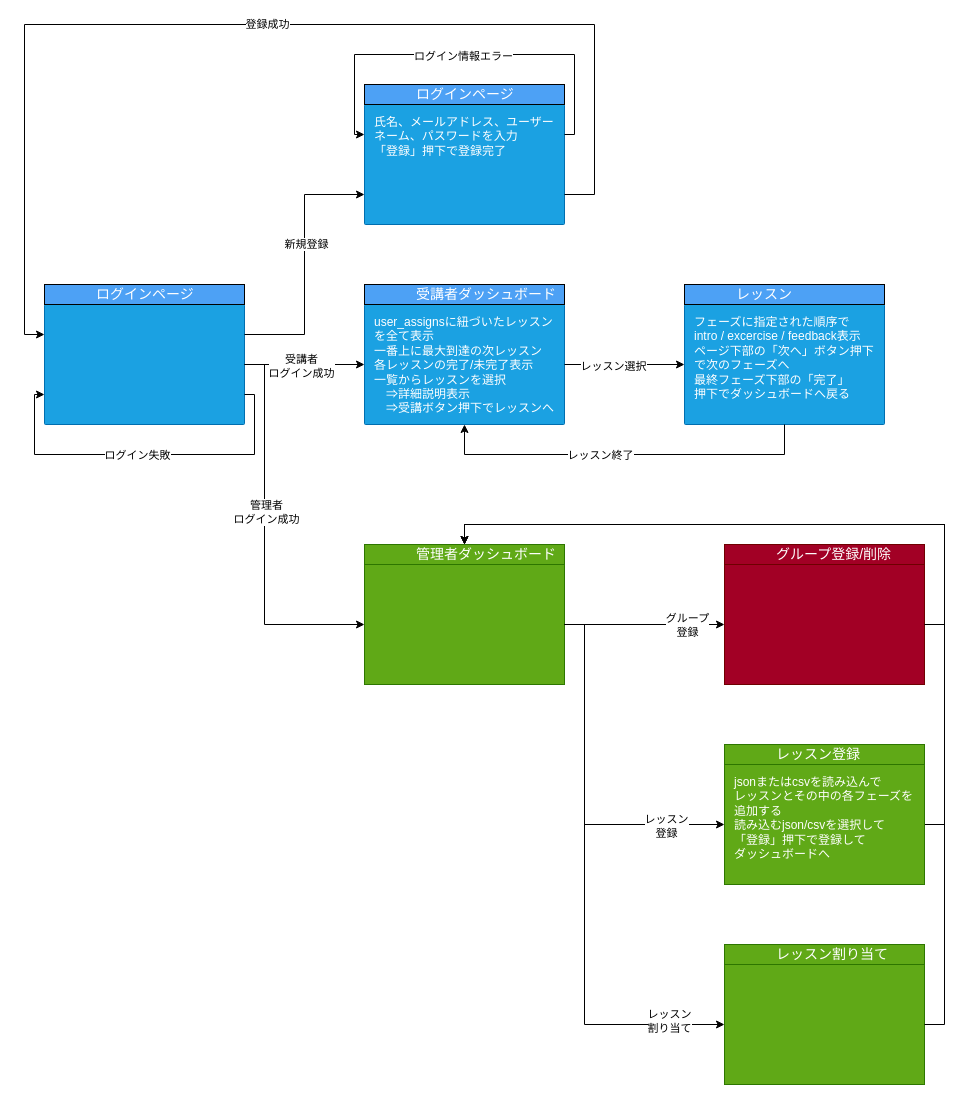
The diagram is 970 pixels wide and 1102 high, and some of its shapes have lost their labels. The shapes that lost their labels are listed below. From the top down, each one's centre as x and y in pixels, then its label:
At (x=144, y=364): "メールアドレス入力 パスワード入力 「ログイン」押下でログイン 「新規作成」押下で新規作成へ".
At (x=464, y=624): "管理下の直近一か月のログイン 一覧を表示 メニューからボタン押下で 各メニューへ遷移".
At (x=824, y=624): "グループに登録する学習者/グループを選択 グループ名を入力 「グループ追加」押下で作成し ダッシュボードへ".
At (x=824, y=1024): "登録されたレッスンを学習者へ割り当てる 登録するレッスンを選択⇒割り当てる学習者/グループを選択 「割り当て」押下で登録して ダッシュボードへ".
